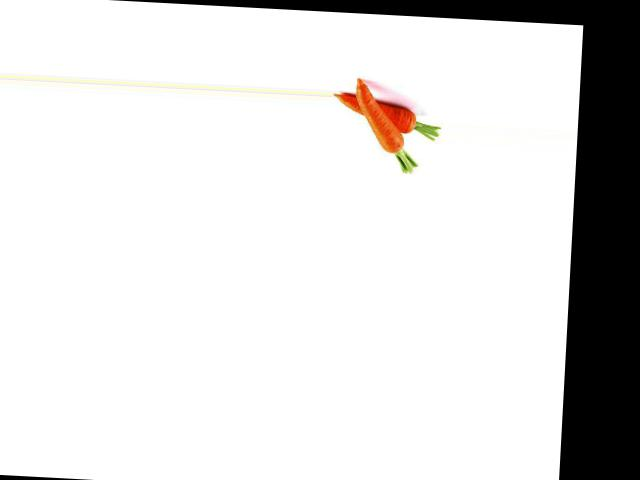carrot: (333, 96, 430, 130)
